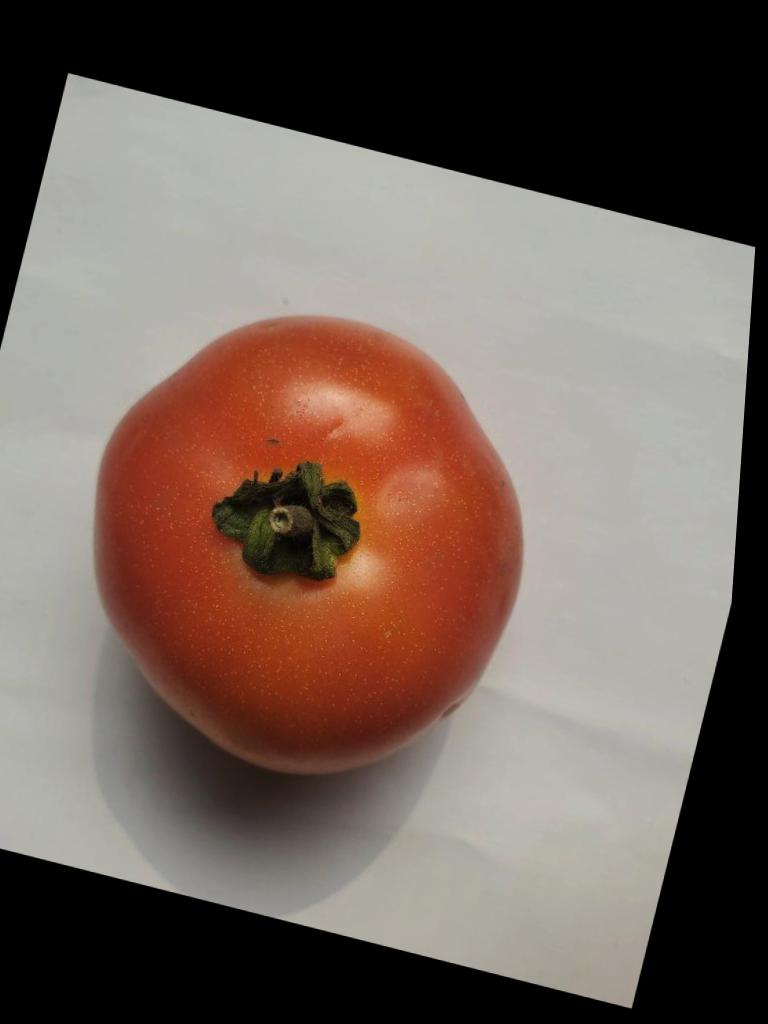tomato: (93, 316, 520, 774)
